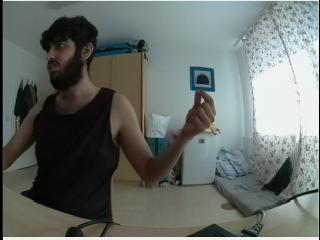tunnel: (188, 66, 214, 92)
